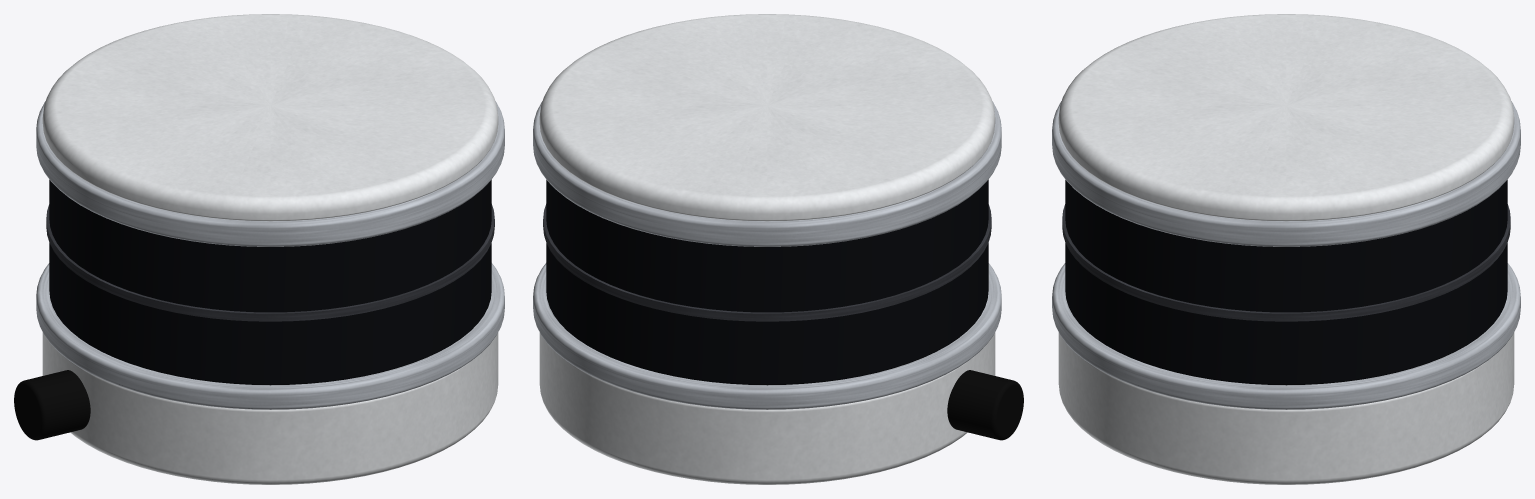
Rendered from lidar3d.dae.
The picture shows the model from 3 angles, left to right: view 1: azimuth 30°, elevation 25°; view 2: azimuth 150°, elevation 25°; view 3: azimuth 270°, elevation 25°; orthographic projection.
Parts seen in each view (by area): view 1: lidar3d; view 2: lidar3d; view 3: lidar3d.
Boxes of the visible parts, <box> form: lidar3d: <box>14,14,504,484</box>; lidar3d: <box>533,14,1023,484</box>; lidar3d: <box>1052,14,1520,484</box>.
Bounding box in the file's own units: 0.1175 × 0.107 × 0.072.
Materials: 6 (3 with a texture image).
